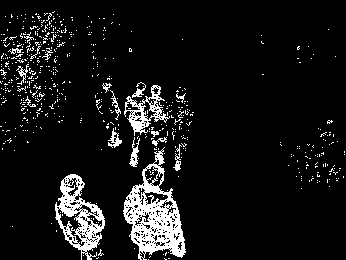person: (123, 164, 186, 260), (55, 174, 107, 258), (90, 73, 124, 148), (147, 84, 171, 167), (126, 81, 148, 165), (173, 87, 194, 169)
